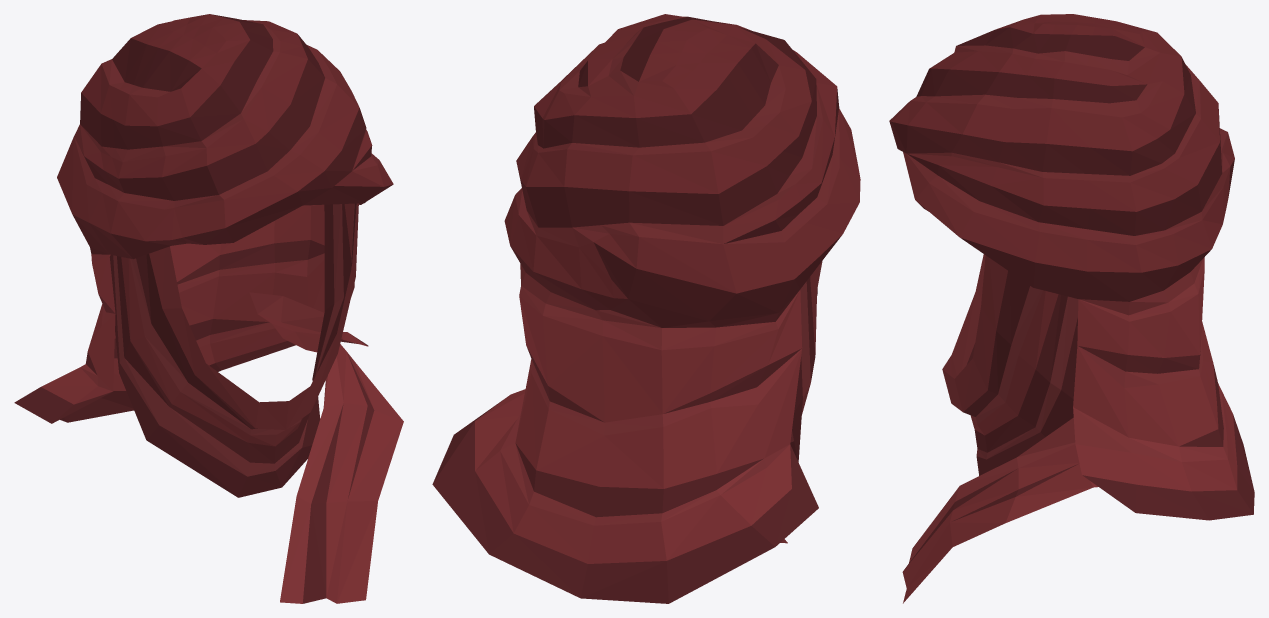
Rendered from desertTurbanOpenColor.glb.
The picture shows the model from 3 angles, left to right: view 1: azimuth 30°, elevation 25°; view 2: azimuth 150°, elevation 25°; view 3: azimuth 270°, elevation 25°; orthographic projection. The views are drawn at different scales.
Parts seen in each view (by area): view 1: desertTurbanOpenColor; view 2: desertTurbanOpenColor; view 3: desertTurbanOpenColor.
Boxes of the visible parts, x1,y1,x2,y2 form: desertTurbanOpenColor: (14, 14, 403, 603); desertTurbanOpenColor: (432, 14, 860, 603); desertTurbanOpenColor: (889, 14, 1254, 603).
Size of the model in its own units: 0.3616 by 0.5639 by 0.3416.
